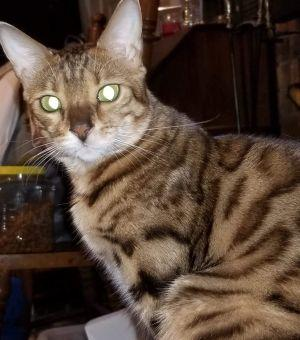bengal: (1, 1, 163, 165)
